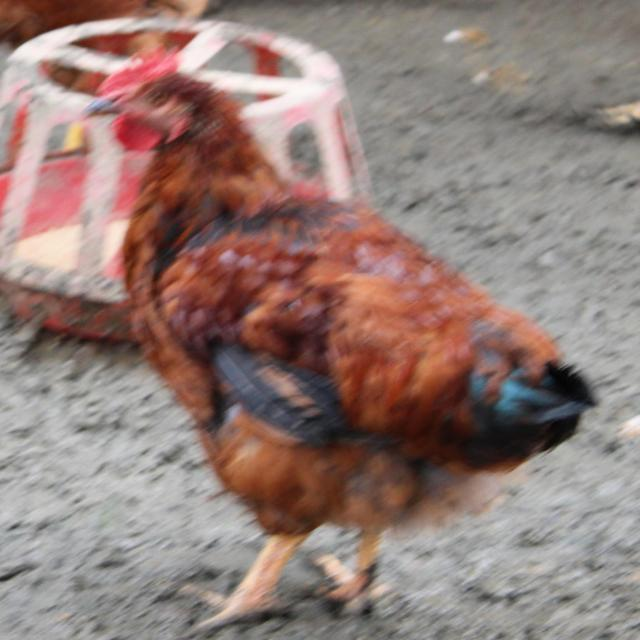cook: (0, 40, 595, 630)
